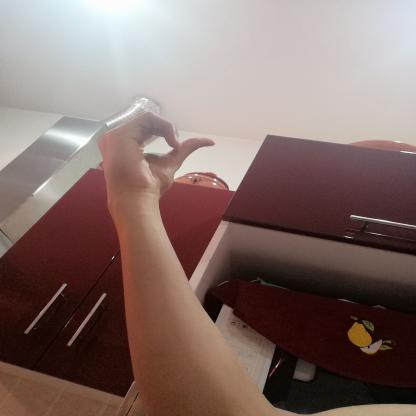WAW: (84, 102, 226, 214)
